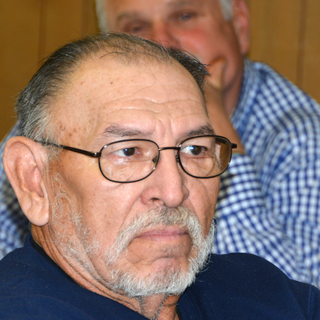eye: (179, 140, 220, 164), (107, 143, 149, 165)
